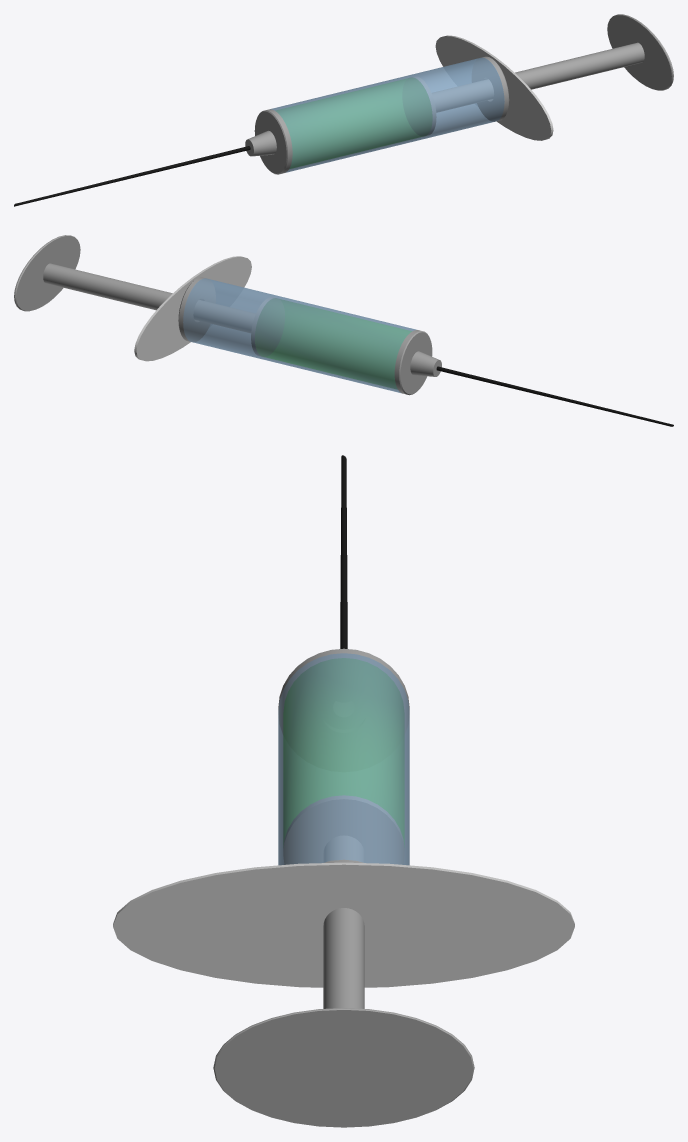
Rendered from syringe.obj.
The picture shows the model from 3 angles, top to bottom: view 1: azimuth 30°, elevation 25°; view 2: azimuth 150°, elevation 25°; view 3: azimuth 270°, elevation 25°; orthographic projection. The views are drawn at different scales.
Parts seen in each view (by area): view 1: Cylinder, drug_Cylinder.004, Cylinder.001, Cylinder.003, Cylinder.002; view 2: Cylinder, drug_Cylinder.004, Cylinder.001, Cylinder.003, Cylinder.002; view 3: Cylinder.003, Cylinder.001, Cylinder, drug_Cylinder.004, Cylinder.002.
Part boxes in pixels (left/top/right/bottom): Cylinder: left=254, top=56, right=509, bottom=174; drug_Cylinder.004: left=276, top=78, right=421, bottom=168; Cylinder.001: left=412, top=14, right=673, bottom=135; Cylinder.003: left=435, top=35, right=553, bottom=140; Cylinder.002: left=14, top=130, right=276, bottom=206; Cylinder: left=178, top=277, right=432, bottom=395; drug_Cylinder.004: left=266, top=299, right=411, bottom=388; Cylinder.001: left=14, top=235, right=276, bottom=355; Cylinder.003: left=134, top=256, right=251, bottom=361; Cylinder.002: left=410, top=351, right=673, bottom=426; Cylinder.003: left=113, top=862, right=574, bottom=987; Cylinder.001: left=213, top=795, right=474, bottom=1127; Cylinder: left=278, top=648, right=409, bottom=865; drug_Cylinder.004: left=284, top=658, right=403, bottom=838; Cylinder.002: left=340, top=455, right=347, bottom=648.
Size of the model in its own units: 30.49 by 2.87 by 9.73.
